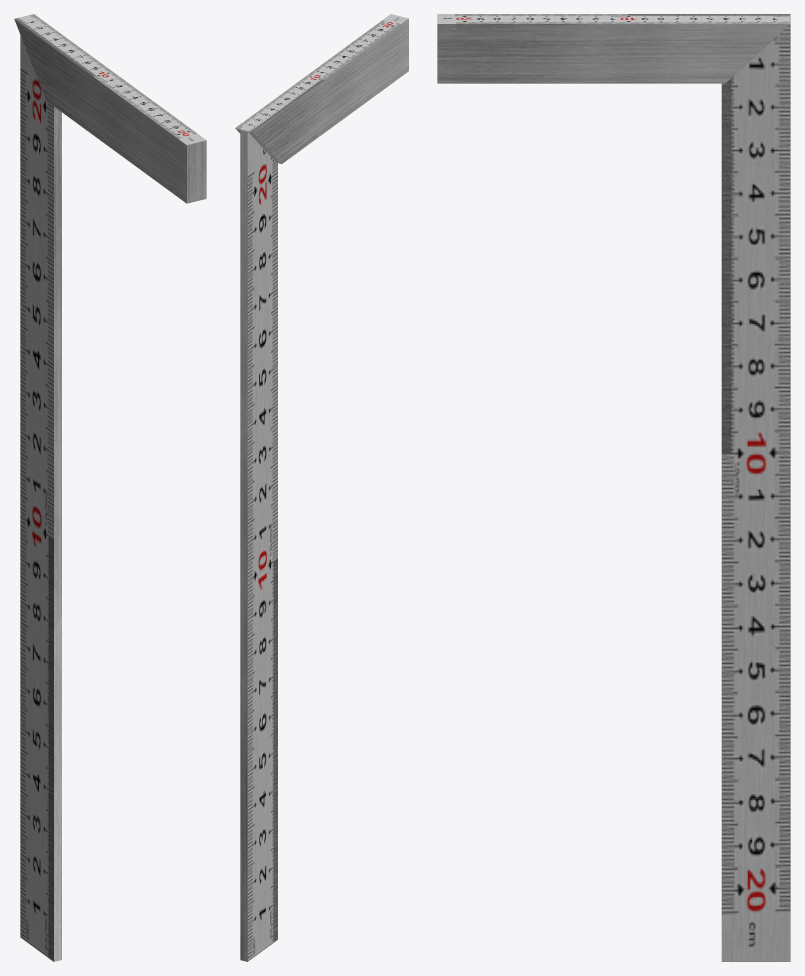
Rendered from jiaochi.fbx.
The picture shows the model from 3 angles, left to right: view 1: azimuth 30°, elevation 25°; view 2: azimuth 150°, elevation 25°; view 3: azimuth 270°, elevation 25°; orthographic projection. The views are drawn at different scales.
Parts seen in each view (by area): view 1: JIAOCHI:pCube2; view 2: JIAOCHI:pCube2; view 3: JIAOCHI:pCube2.
Part boxes in pixels (x1,y1,x2,y2): JIAOCHI:pCube2: (14, 14, 206, 961); JIAOCHI:pCube2: (235, 14, 408, 961); JIAOCHI:pCube2: (437, 14, 790, 961).
Size of the model in its own units: 0.5 by 22.02 by 7.49.
1 material, 1 textured.
